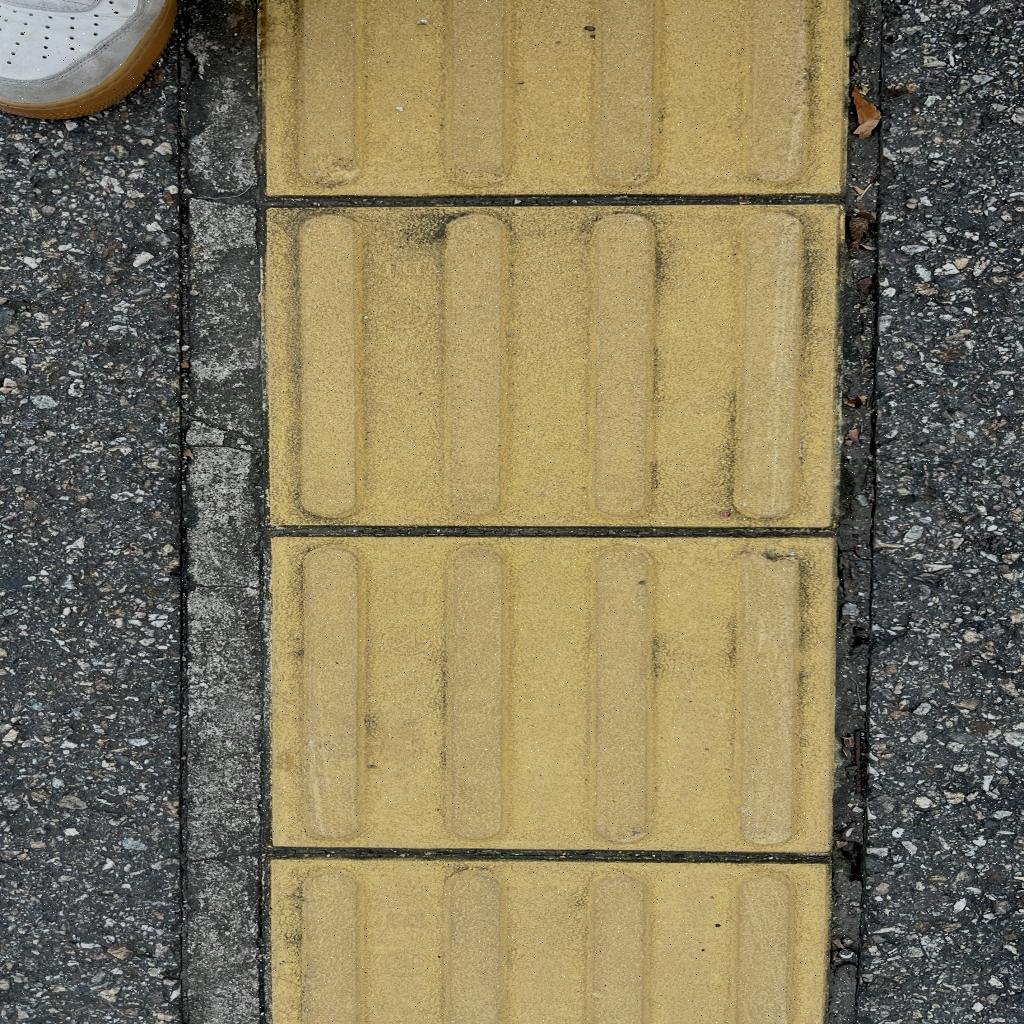Straight block normal: (274, 207, 840, 525), (283, 541, 835, 848)
